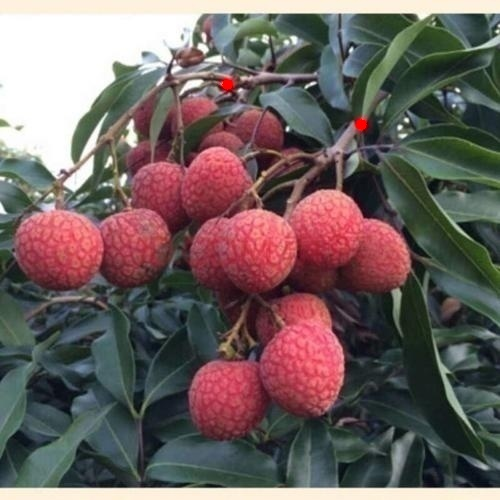litchi: (191, 187, 408, 440), (17, 96, 279, 287)
stem: (302, 88, 389, 170), (217, 64, 323, 95)
